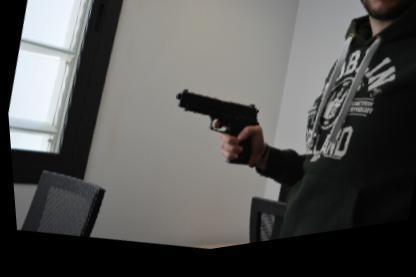pistol: (158, 82, 266, 182)
